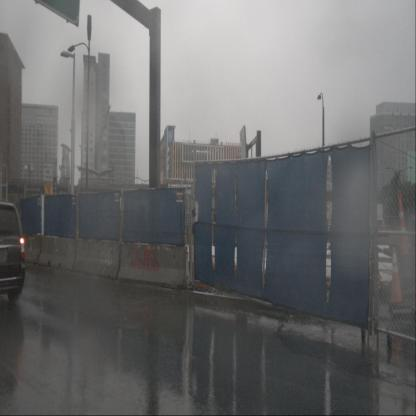barrier: (118, 242, 192, 289), (72, 239, 122, 279), (38, 236, 78, 272), (12, 232, 42, 264)
cone: (396, 190, 412, 258), (388, 245, 404, 304)
